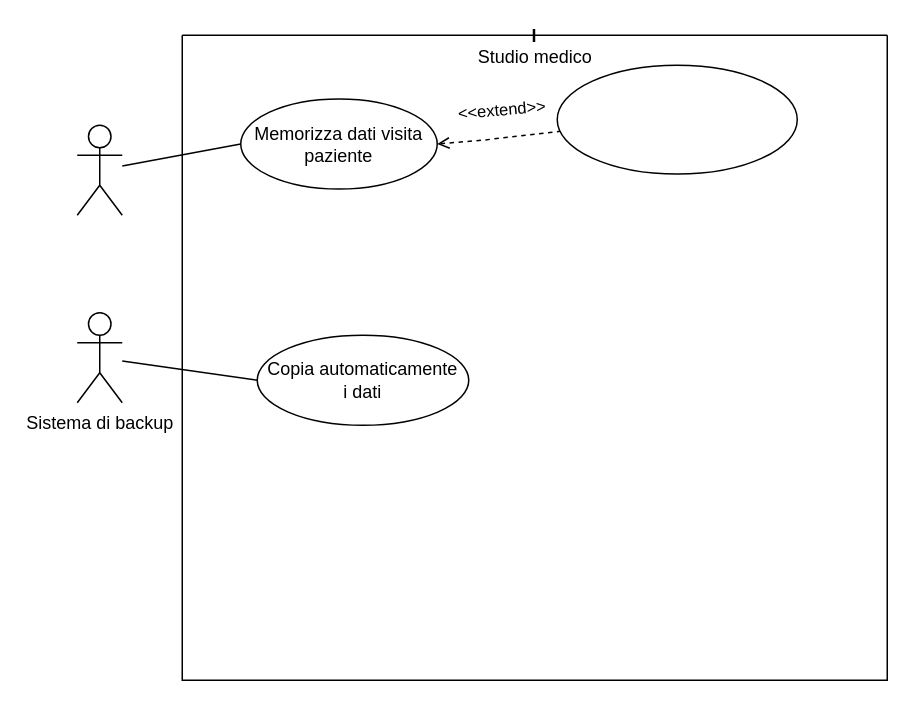
Some shapes in this 914 by 707 pixel diagram are drawn without their labels. Each missing label, with the centre of its shape:
Medico/Psicologo: the point at 99,169
Memorizza dati anagrafici pazienti nuovi: the point at 676,119
